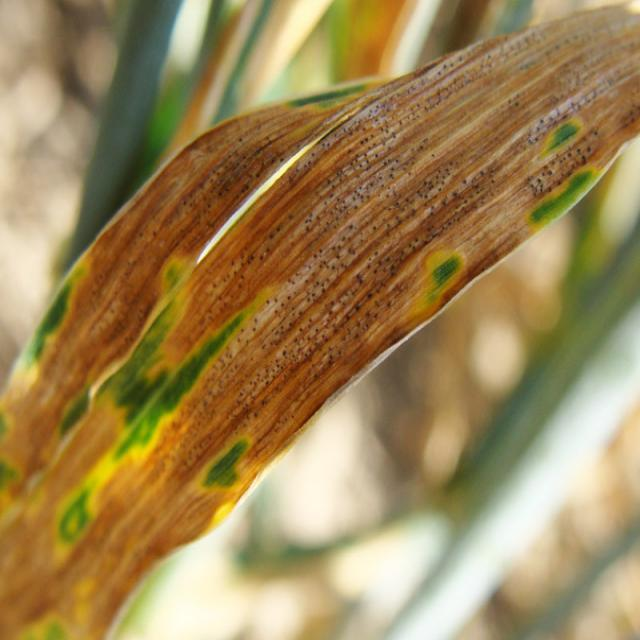wheat-septoria: (0, 0, 640, 640)
